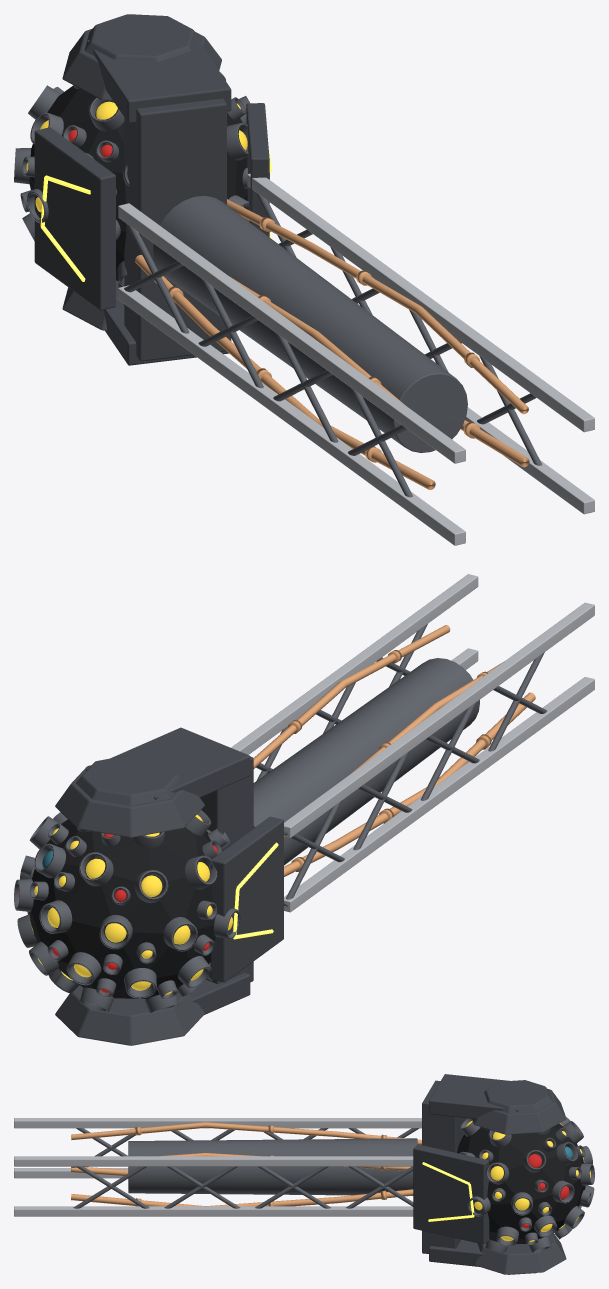
Rendered from mod_geodesic_ew_emitter.glb.
3 renders of one model, top to bottom at view 1: azimuth 30°, elevation 25°; view 2: azimuth 150°, elevation 25°; view 3: azimuth 270°, elevation 25°, orthographic. The views are drawn at different scales.
Visible parts, largest first — view 1: CS17_Geodesic_Gimbal_Armored_Caps, CS17_EW_Waveguide_Trunk, CS17_EW_Telescoping_Rails, CS17_EW_Copper_Umbilicals, CS17_Geodesic_Aperture_Bezels, CS17_Geodesic_Emitter_SphereCore, CS17_Geodesic_Yoke_Amber_Conduits; view 2: CS17_Geodesic_Gimbal_Armored_Caps, CS17_EW_Waveguide_Trunk, CS17_EW_Telescoping_Rails, CS17_Geodesic_Aperture_Bezels, CS17_Geodesic_Emitter_SphereCore, CS17_EW_Copper_Umbilicals, CS17_Geodesic_Amber_Emitters, CS17_Geodesic_Yoke_Amber_Conduits; view 3: CS17_Geodesic_Gimbal_Armored_Caps, CS17_EW_Waveguide_Trunk, CS17_EW_Telescoping_Rails, CS17_Geodesic_Emitter_SphereCore, CS17_Geodesic_Aperture_Bezels, CS17_EW_Copper_Umbilicals, CS17_Geodesic_Amber_Emitters, CS17_Geodesic_Yoke_Amber_Conduits, CS17_Geodesic_Ruby_Sensors.
Boxes of the visible parts, bbox=[...] form: CS17_Geodesic_Gimbal_Armored_Caps: bbox=[34, 14, 269, 365]; CS17_EW_Waveguide_Trunk: bbox=[124, 192, 541, 497]; CS17_EW_Telescoping_Rails: bbox=[118, 173, 594, 545]; CS17_EW_Copper_Umbilicals: bbox=[135, 199, 529, 489]; CS17_Geodesic_Aperture_Bezels: bbox=[14, 71, 269, 287]; CS17_Geodesic_Emitter_SphereCore: bbox=[29, 85, 247, 281]; CS17_Geodesic_Yoke_Amber_Conduits: bbox=[40, 150, 272, 281]; CS17_Geodesic_Gimbal_Armored_Caps: bbox=[55, 727, 283, 1045]; CS17_EW_Waveguide_Trunk: bbox=[253, 624, 546, 906]; CS17_EW_Telescoping_Rails: bbox=[231, 574, 594, 912]; CS17_Geodesic_Aperture_Bezels: bbox=[14, 810, 240, 1012]; CS17_Geodesic_Emitter_SphereCore: bbox=[29, 819, 215, 998]; CS17_EW_Copper_Umbilicals: bbox=[253, 625, 535, 876]; CS17_Geodesic_Amber_Emitters: bbox=[31, 814, 232, 994]; CS17_Geodesic_Yoke_Amber_Conduits: bbox=[233, 842, 278, 939]; CS17_Geodesic_Gimbal_Armored_Caps: bbox=[413, 1074, 566, 1274]; CS17_EW_Waveguide_Trunk: bbox=[73, 1128, 418, 1208]; CS17_EW_Telescoping_Rails: bbox=[14, 1118, 421, 1216]; CS17_Geodesic_Emitter_SphereCore: bbox=[457, 1123, 585, 1243]; CS17_Geodesic_Aperture_Bezels: bbox=[459, 1117, 594, 1253]; CS17_EW_Copper_Umbilicals: bbox=[71, 1122, 421, 1206]; CS17_Geodesic_Amber_Emitters: bbox=[466, 1120, 590, 1241]; CS17_Geodesic_Yoke_Amber_Conduits: bbox=[422, 1162, 474, 1221]; CS17_Geodesic_Ruby_Sensors: bbox=[522, 1154, 569, 1228].
Size of the model in its own units: 4.65 by 5.47 by 17.28.
